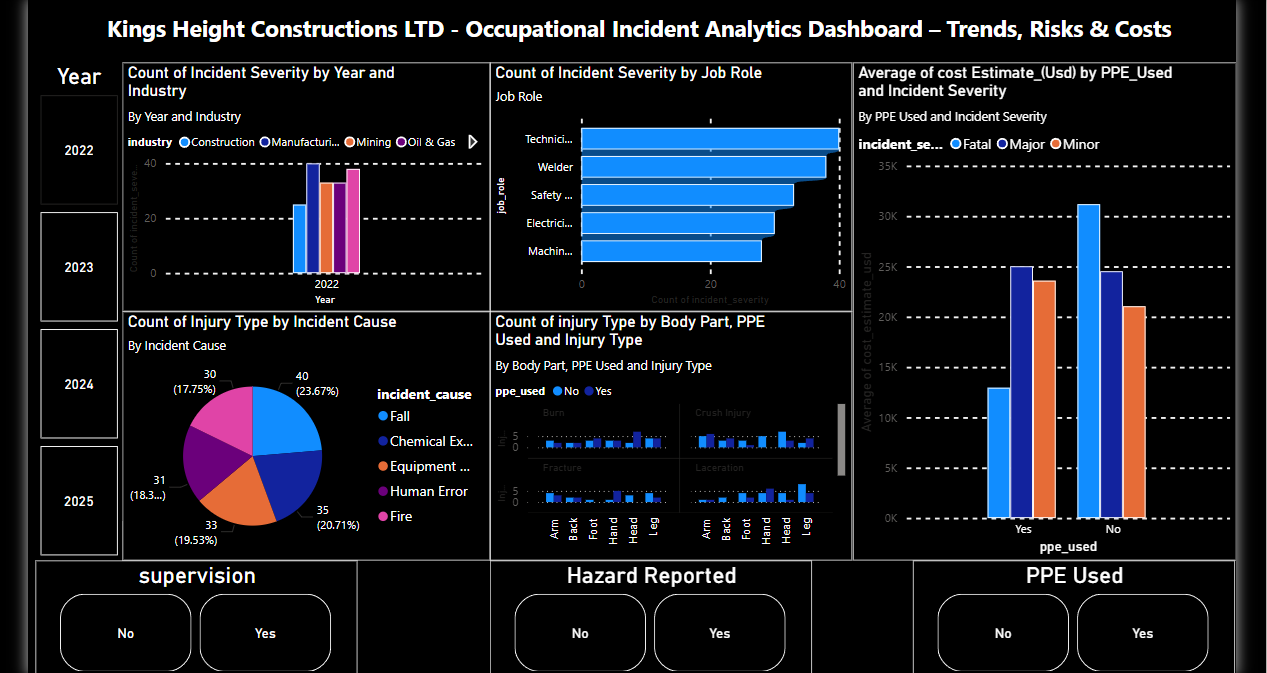

This screenshot's page, from the dashboard's own definition file:
{"tool":"powerbi","page":{"name":"KingSize Constructions LTD - Occupational Incident Analytics Dashboard","canvas":[1280,720],"ordinal":0},"visuals":[{"type":"textbox","box":[59.9,9.7,1175.6,58.3],"z":0},{"type":"clusteredColumnChart","title":"Count of Incident Severity by Year and Industry","fields":{"Category":["ohs_incident_dataset_700.date.Variation.Date Hierarchy.Year"],"Y":["CountNonNull(ohs_incident_dataset_700.incident_severity)"],"Series":["ohs_incident_dataset_700.industry"]},"box":[100.4,68,390.2,263.9],"z":1000},{"type":"barChart","title":"Count of Incident Severity by Job Role","fields":{"Category":["ohs_incident_dataset_700.job_role"],"Y":["CountNonNull(ohs_incident_dataset_700.incident_severity)"]},"box":[490.6,68,383.8,263.9],"z":2000},{"type":"pieChart","title":"Count of Injury Type by Incident Cause","fields":{"Y":["CountNonNull(ohs_incident_dataset_700.injury_type)"],"Category":["ohs_incident_dataset_700.incident_cause"]},"box":[100.4,331.9,390.2,263.9],"z":3000},{"type":"lineClusteredColumnComboChart","title":"Count of injury Type by Body Part, PPE Used and Injury Type","fields":{"Y":["CountNonNull(ohs_incident_dataset_700.injury_type)"],"Category":["ohs_incident_dataset_700.body_part"],"Series":["ohs_incident_dataset_700.ppe_used"],"Rows":["ohs_incident_dataset_700.injury_type"]},"box":[490.6,331.9,383.8,263.9],"z":4000},{"type":"lineClusteredColumnComboChart","title":"Average of cost Estimate_(Usd) by PPE_Used and Incident Severity","fields":{"Category":["ohs_incident_dataset_700.ppe_used"],"Y":["Avg(ohs_incident_dataset_700.cost_estimate_usd)"],"Series":["ohs_incident_dataset_700.incident_severity"]},"box":[874.4,68,406.4,527.9],"z":5000},{"type":"advancedSlicerVisual","fields":{"Values":["ohs_incident_dataset_700.date.Variation.Date Hierarchy.Year"]},"box":[8.1,68,92.3,527.9],"z":6000},{"type":"advancedSlicerVisual","fields":{"Values":["ohs_incident_dataset_700.supervision"]},"box":[8.1,595.9,341.7,124.7],"z":7000},{"type":"advancedSlicerVisual","fields":{"Values":["ohs_incident_dataset_700.hazard_reported"]},"box":[490.6,595.9,341.7,124.7],"z":8000},{"type":"advancedSlicerVisual","fields":{"Values":["ohs_incident_dataset_700.ppe_used"]},"box":[939.2,595.9,341.7,124.7],"z":9000}]}

Visuals, with their boxes in screenshot pixels (x1, y1, x2, y2):
textbox: [x1=74, y1=9, x2=1197, y2=65]
"Count of Incident Severity by Year and Industry" clusteredColumnChart: [x1=112, y1=65, x2=485, y2=317]
"Count of Incident Severity by Job Role" barChart: [x1=485, y1=65, x2=852, y2=317]
"Count of Injury Type by Incident Cause" pieChart: [x1=112, y1=317, x2=485, y2=569]
"Count of injury Type by Body Part, PPE Used and Injury Type" lineClusteredColumnComboChart: [x1=485, y1=317, x2=852, y2=569]
"Average of cost Estimate_(Usd) by PPE_Used and Incident Severity" lineClusteredColumnComboChart: [x1=852, y1=65, x2=1241, y2=570]
advancedSlicerVisual - ohs_incident_dataset_700.date.Variation.Date Hierarchy.Year: [x1=24, y1=65, x2=112, y2=570]
advancedSlicerVisual - ohs_incident_dataset_700.supervision: [x1=24, y1=570, x2=351, y2=672]
advancedSlicerVisual - ohs_incident_dataset_700.hazard_reported: [x1=485, y1=570, x2=812, y2=672]
advancedSlicerVisual - ohs_incident_dataset_700.ppe_used: [x1=914, y1=570, x2=1241, y2=672]
